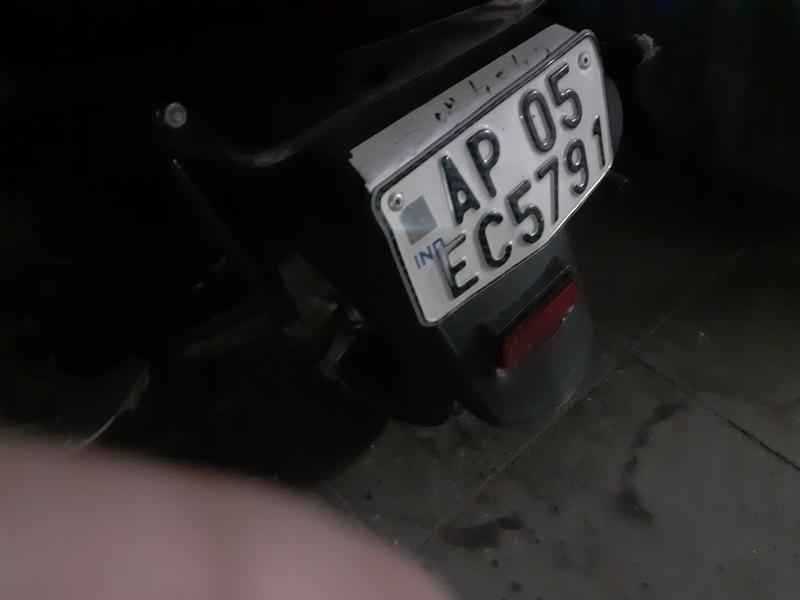numberplate: (399, 30, 615, 329)
